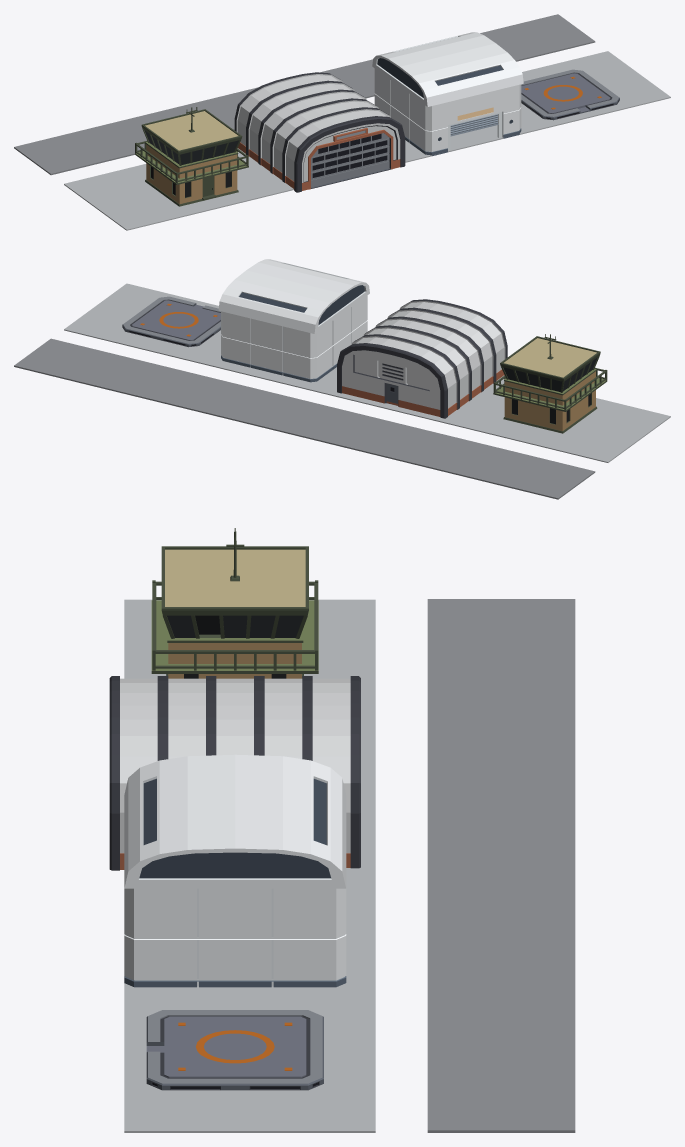
Rendered from airport.glb.
3 views of the same model, one above another, from view 1: azimuth 30°, elevation 25°; view 2: azimuth 150°, elevation 25°; view 3: azimuth 270°, elevation 25° (orthographic). The views are drawn at different scales.
Visible parts, largest first — view 1: ground (×2), hangar-shell, hull, tower, pad, door, glazing, door-curtain; view 2: ground (×2), hull, hangar-shell, tower, pad, glazing; view 3: ground (×2), hangar-shell, hull, tower, pad, glazing.
Part boxes in pixels (bbox=[...]): ground (×2): bbox=[14, 14, 670, 230]; hangar-shell: bbox=[372, 32, 523, 156]; hull: bbox=[234, 72, 405, 192]; tower: bbox=[135, 109, 248, 206]; pad: bbox=[521, 69, 619, 120]; door: bbox=[311, 133, 389, 187]; glazing: bbox=[377, 58, 512, 140]; door-curtain: bbox=[450, 114, 498, 136]; ground (×2): bbox=[14, 283, 670, 499]; hull: bbox=[337, 299, 507, 418]; hangar-shell: bbox=[218, 259, 369, 382]; tower: bbox=[493, 336, 607, 433]; pad: bbox=[122, 296, 220, 347]; glazing: bbox=[239, 285, 364, 324]; ground (×2): bbox=[124, 599, 575, 1132]; hangar-shell: bbox=[124, 754, 346, 987]; hull: bbox=[109, 676, 360, 870]; tower: bbox=[151, 546, 318, 678]; pad: bbox=[146, 1010, 323, 1090]; glazing: bbox=[139, 778, 330, 878].
Bounding box in the file's own units: 170 × 24 × 63.
